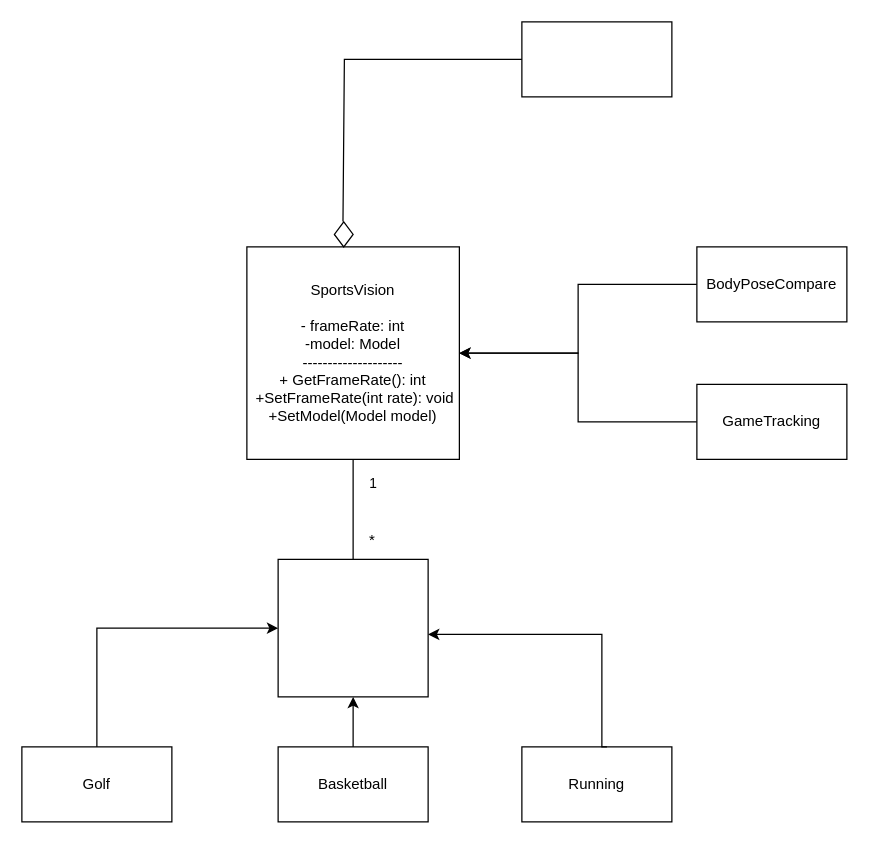
This 869x844 diagram has some shape labels left out. The shapes that lost their labels are listed below. From the top down, each one's centre as x and y in pixels, then its label:
At point (596, 59): "Model".
At point (352, 627): "Sports".
